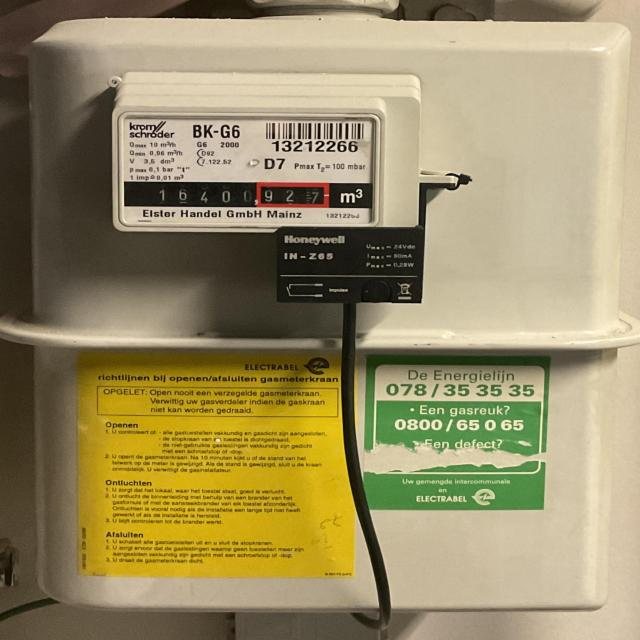gaz_meter: (116, 109, 380, 228)
indication: (144, 183, 329, 212)
